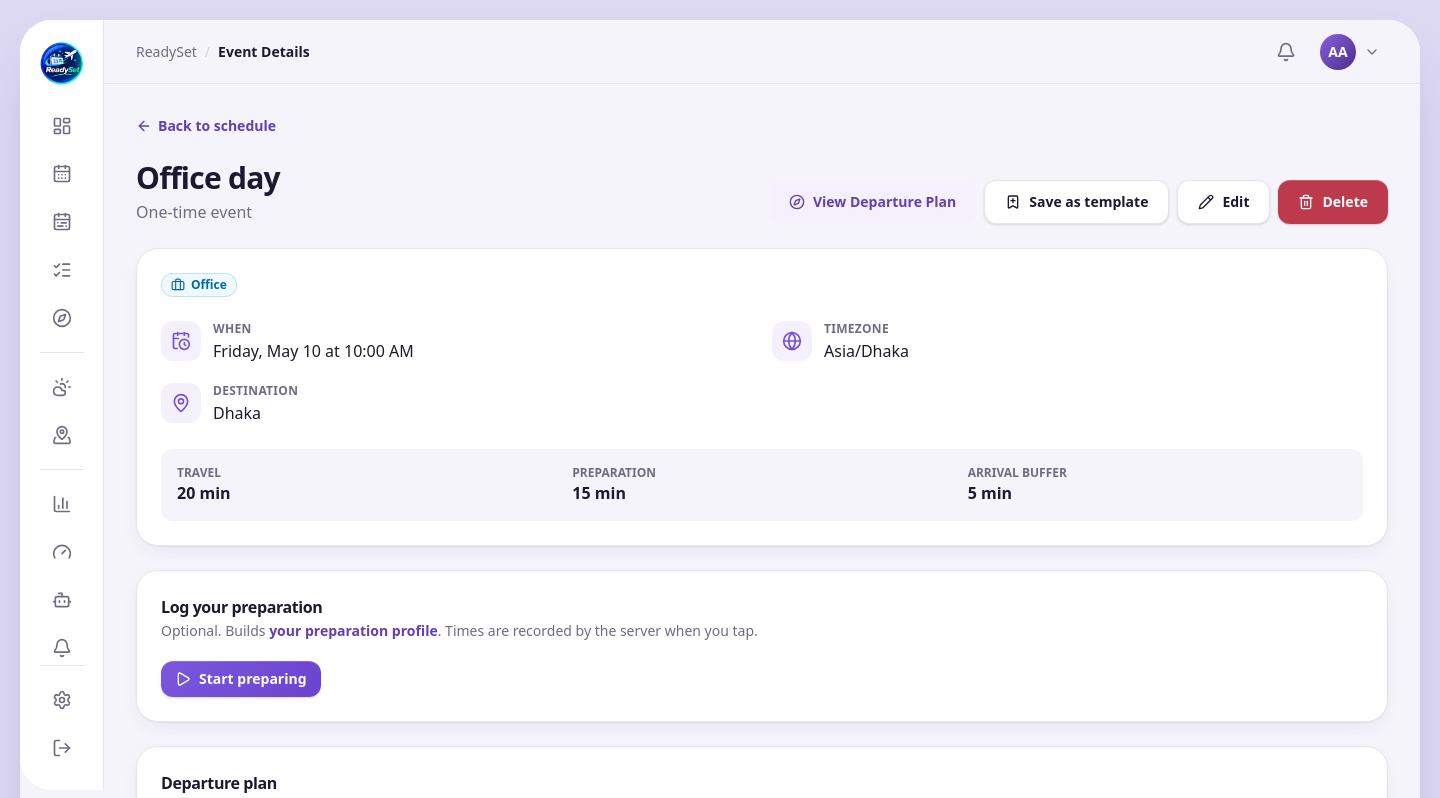
Test: tap-to-log panel on Event Details › a started session can be cancelled
The width and height of the screenshot is (1440, 798).
Click the button "Start preparing" at (241, 679), box [161,661,320,697]
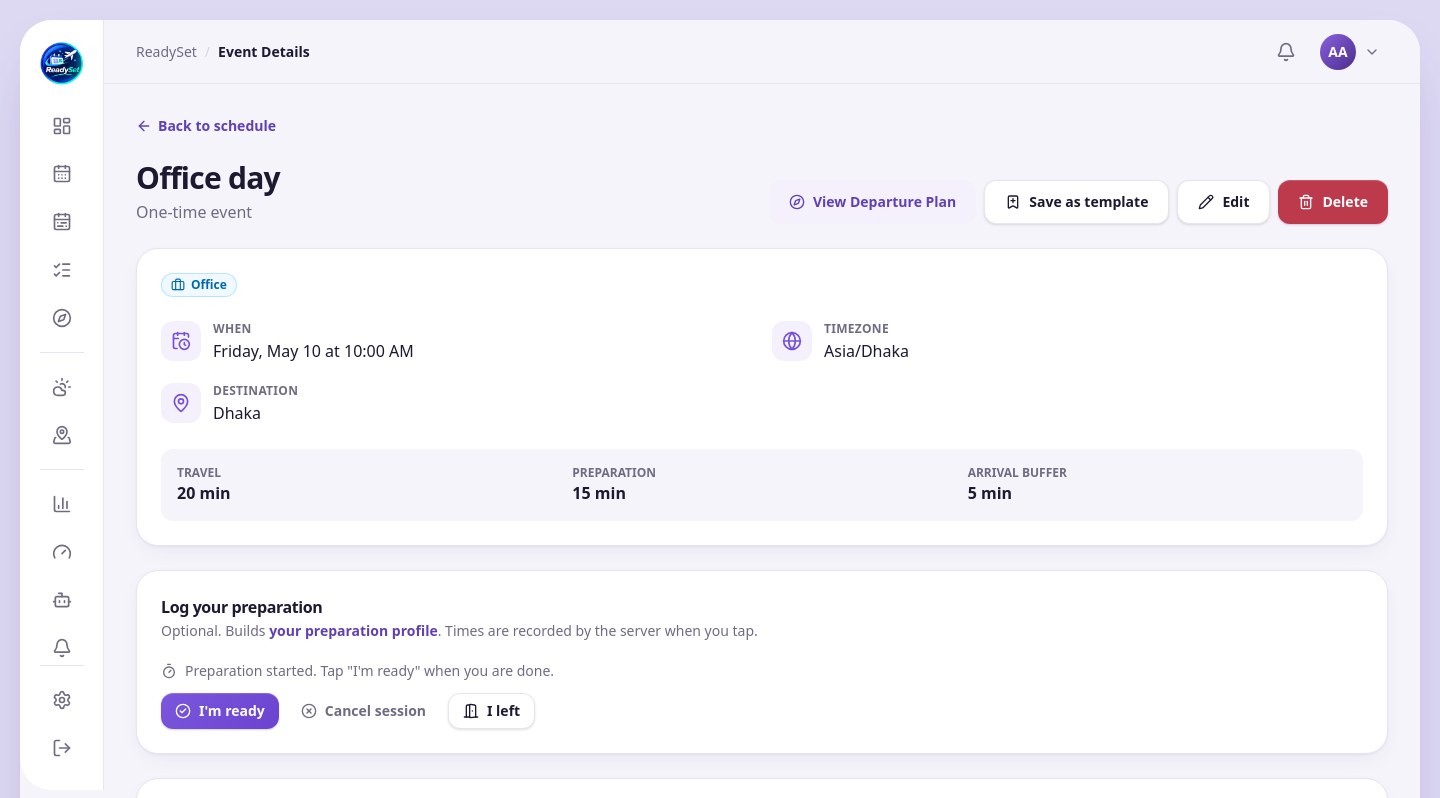
Click the button "Cancel session" at (363, 711), box [287,693,440,729]
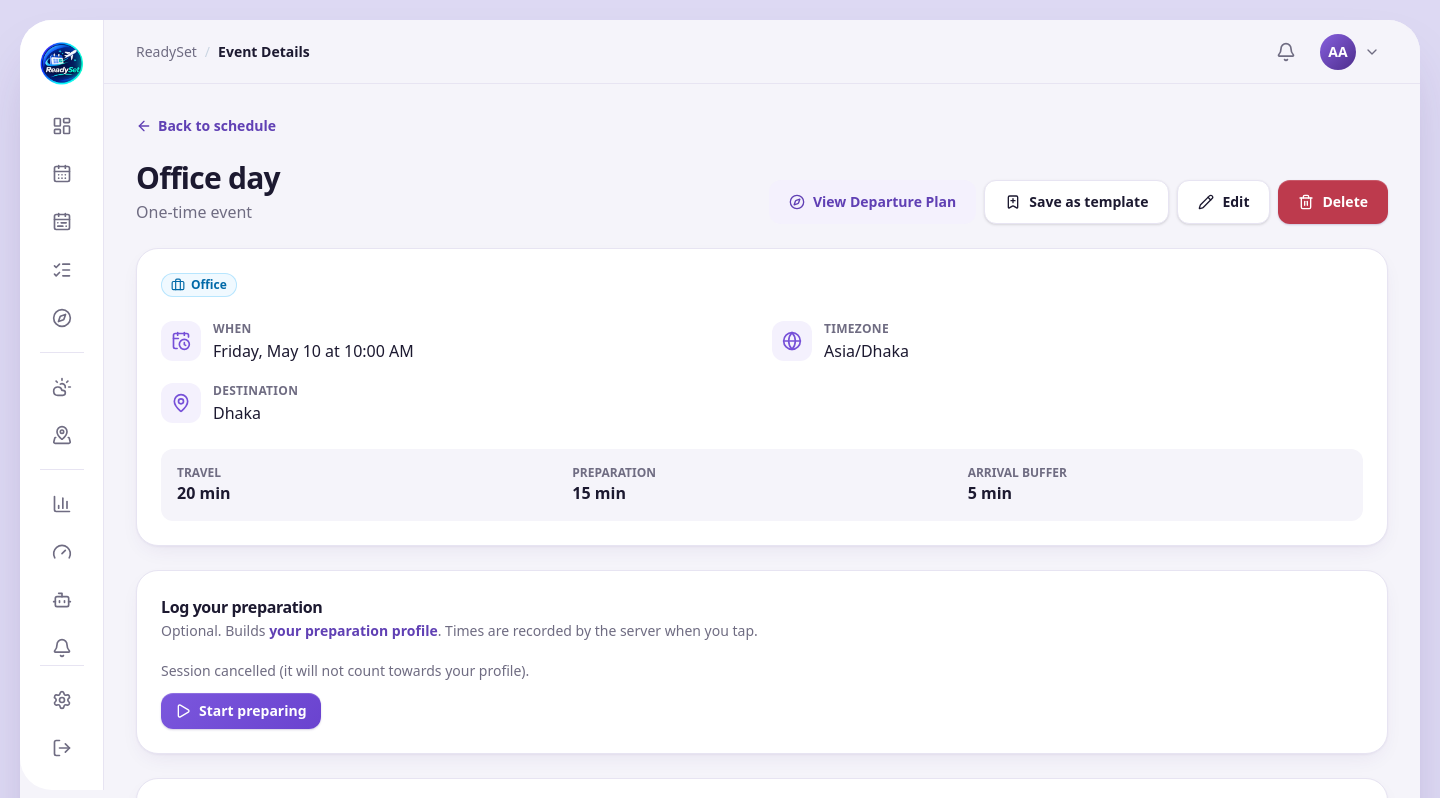
Expected: the text "Session cancelled (it will not count towards your profile)." is shown, [161,661,529,680]
